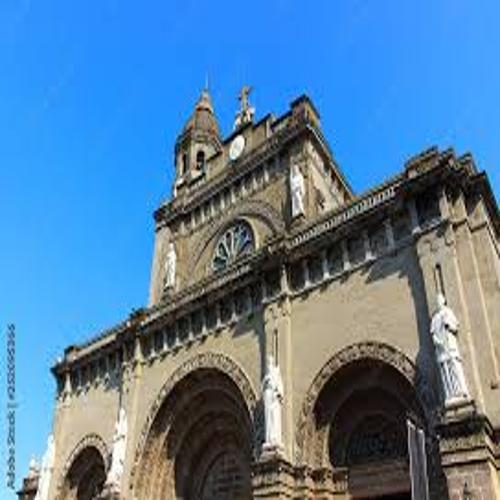Manila Cathedral Church: (14, 60, 500, 499)
